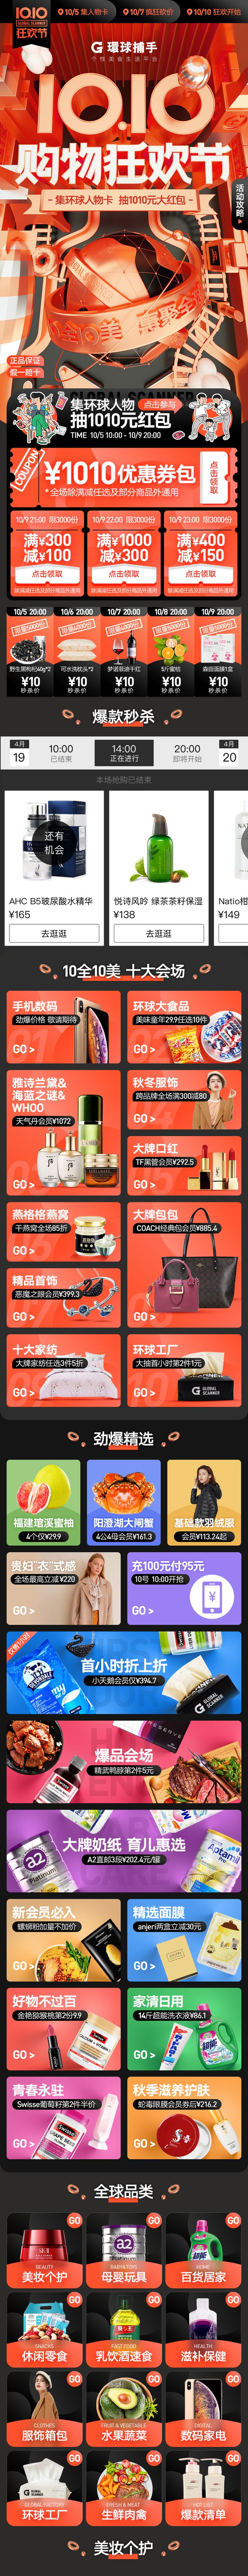floors: (0, 1428, 248, 2172), (0, 958, 248, 1423), (0, 389, 248, 700), (0, 705, 248, 950), (0, 2178, 248, 2369)
toutu: (0, 0, 248, 386)
